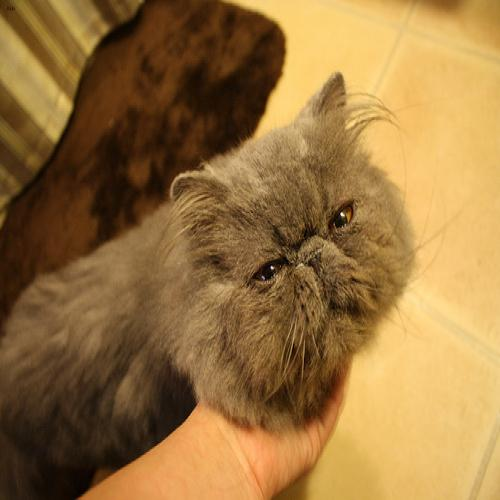persian: (166, 67, 429, 416)
